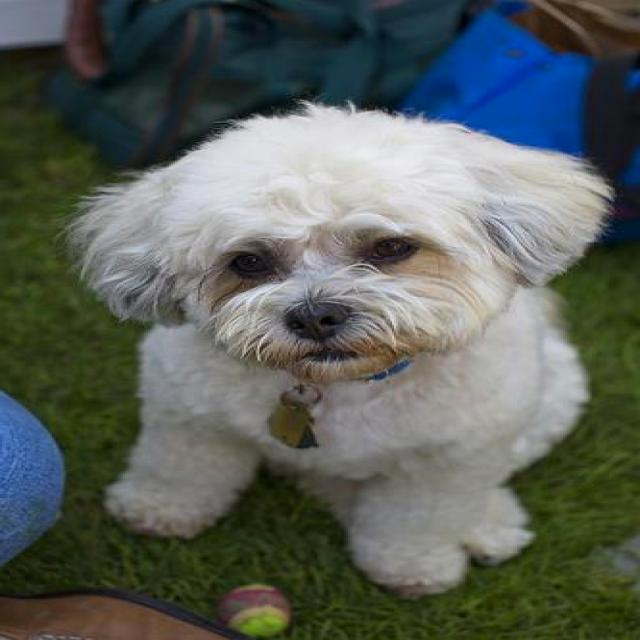maltese_dog: (83, 105, 611, 593)
